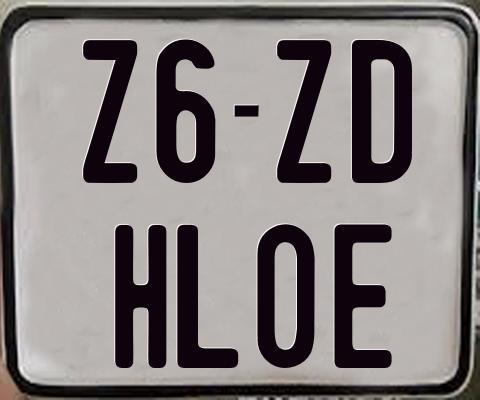0: (256, 224, 318, 372)
6: (155, 37, 216, 181)
D: (349, 38, 410, 182)
E: (334, 221, 392, 366)
H: (114, 225, 172, 370)
L: (176, 222, 243, 370)
Z: (274, 39, 331, 188), (83, 40, 141, 184)
